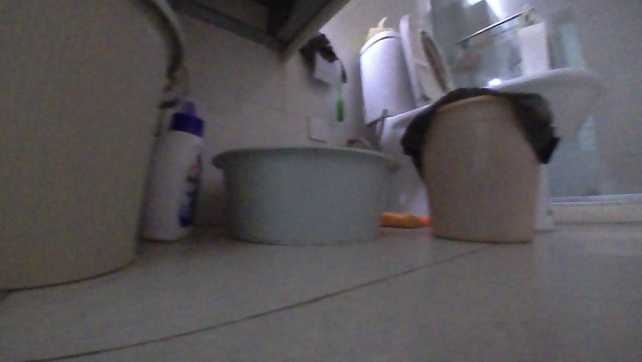toilet: (345, 10, 603, 243)
trash_can: (407, 83, 560, 243)
